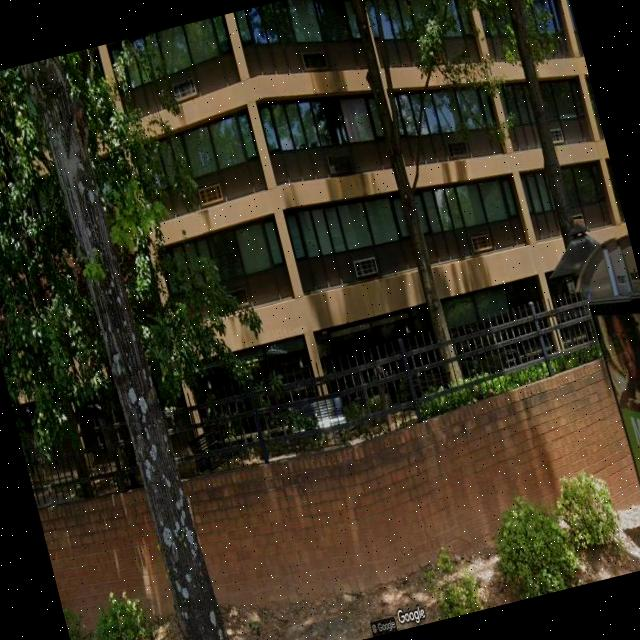shelter: (538, 210, 640, 571)
